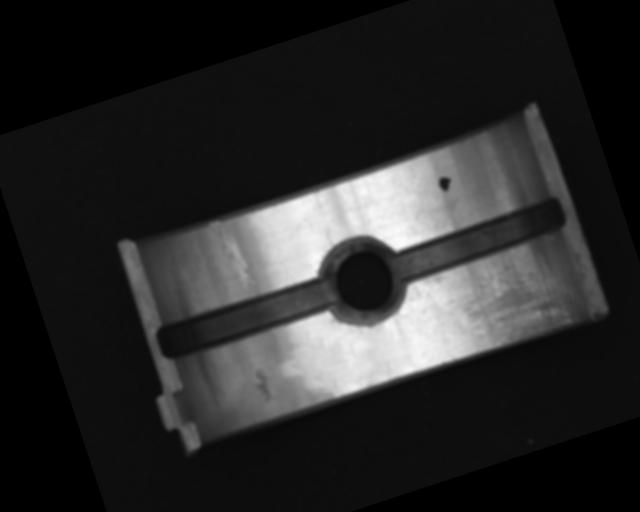blot: (435, 172, 455, 194)
bruise: (248, 365, 279, 406)
gap: (153, 268, 340, 365), (385, 195, 570, 287)
hole: (312, 227, 415, 334)
nick: (208, 215, 255, 294)
scratch: (442, 234, 588, 359)
